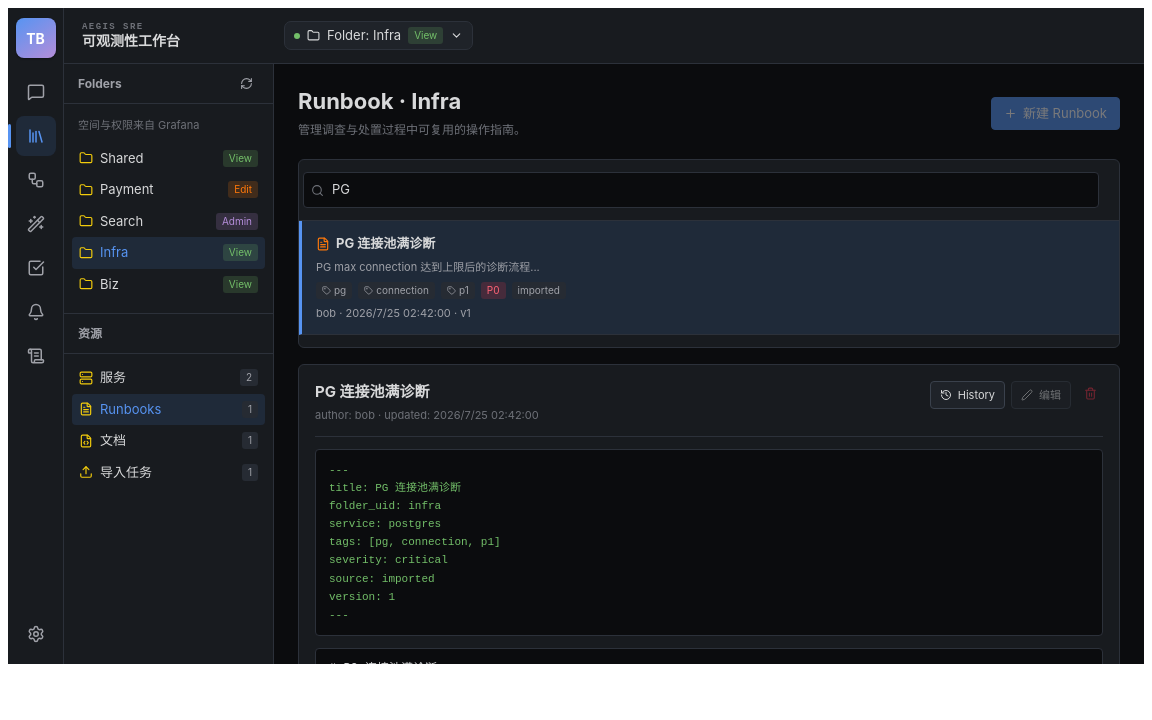
Test case: KnowledgePage services › restores and updates the Runbook tab and query through the URL
Expected: the heading "Runbook · Infra" is shown, x1=298 y1=88 x2=461 y2=114
Step 1. Replace the text in the field named "搜索 Runbook" with "connection" → (701, 190), box x1=303 y1=172 x2=1099 y2=208
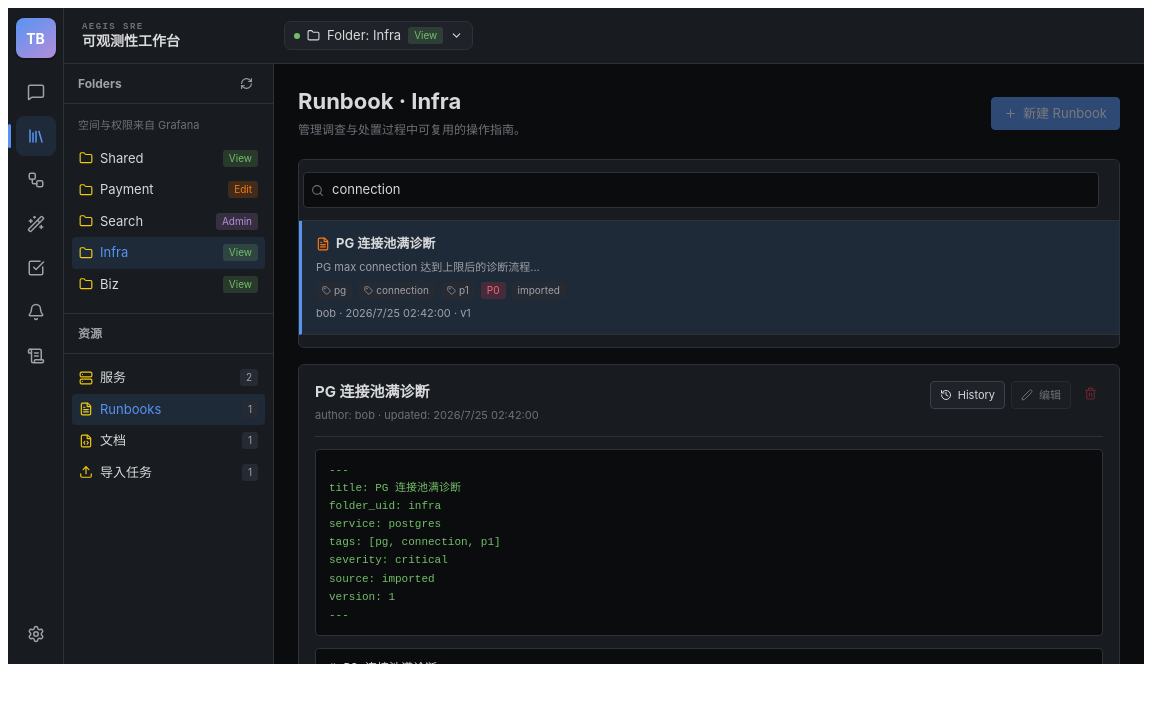
Step 2. Click the button "文档 1" → (168, 441), box x1=72 y1=425 x2=265 y2=456
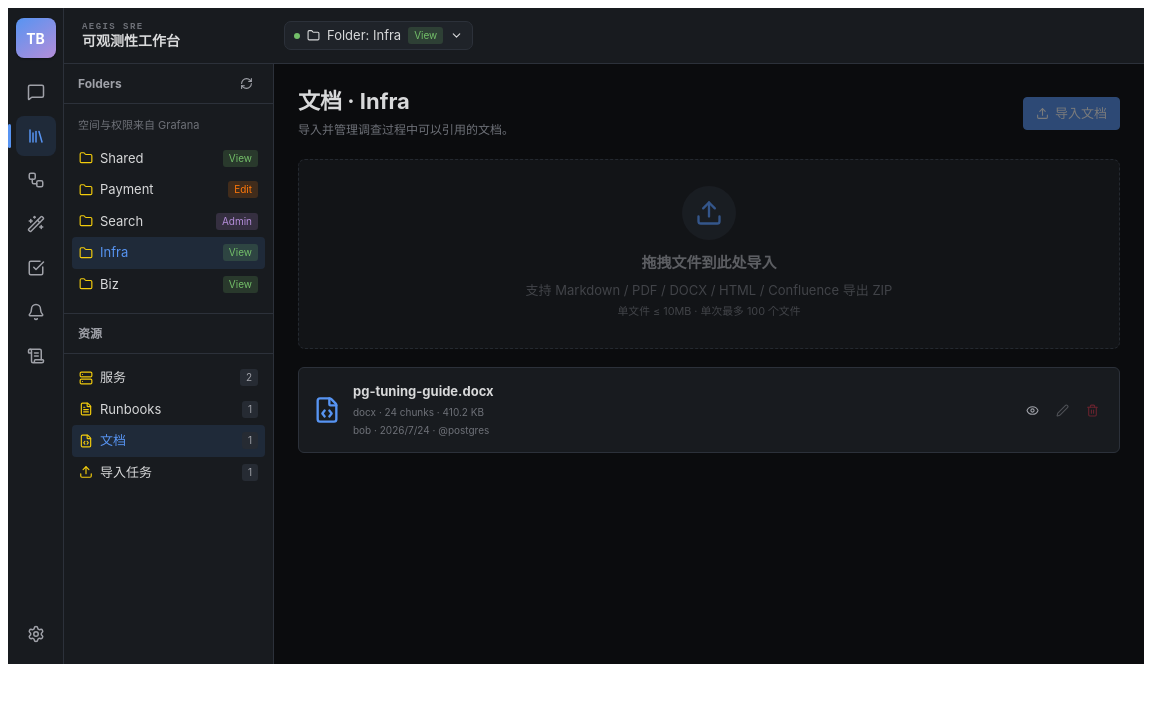
Now the heading "文档 · Infra" is shown, box x1=298 y1=88 x2=410 y2=114
